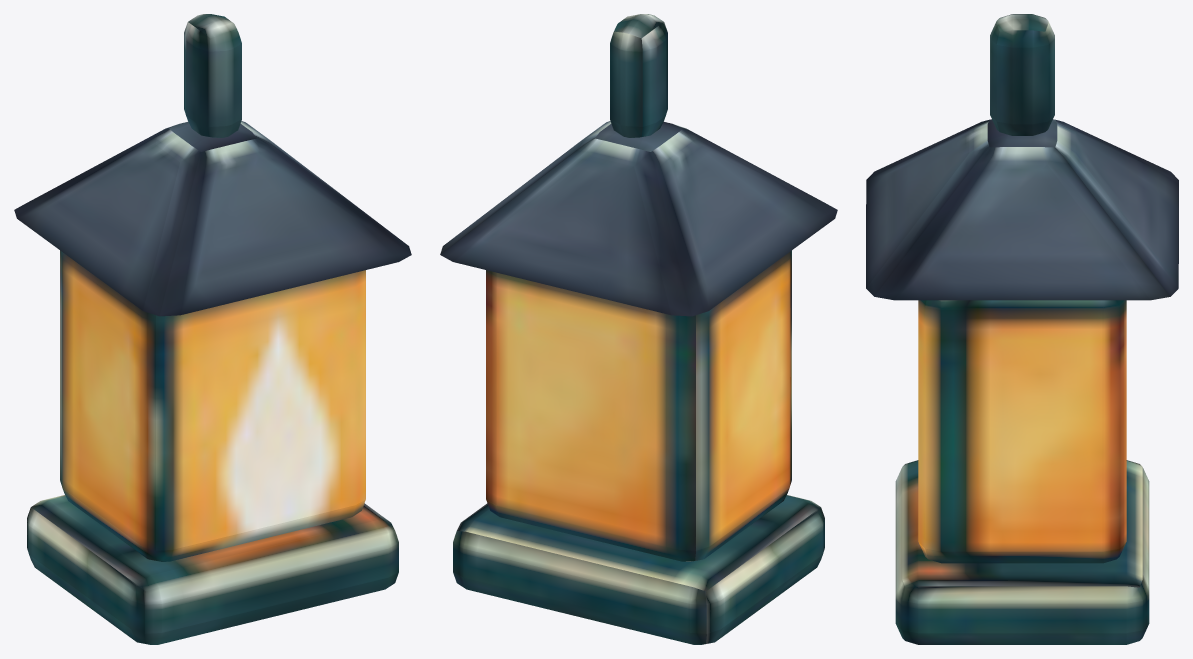
Rendered from lantern.glb.
The picture shows the model from 3 angles, left to right: view 1: azimuth 30°, elevation 25°; view 2: azimuth 150°, elevation 25°; view 3: azimuth 270°, elevation 25°; orthographic projection.
Visible parts, largest first — view 1: lantern; view 2: lantern; view 3: lantern.
Boxes of the visible parts, left/top/right/bottom form: lantern: left=14, top=14, right=411, bottom=644; lantern: left=440, top=14, right=837, bottom=644; lantern: left=866, top=14, right=1178, bottom=644.
Size of the model in its own units: 0.481 by 0.97 by 0.481.
Materials: 1 (1 with a texture image).
